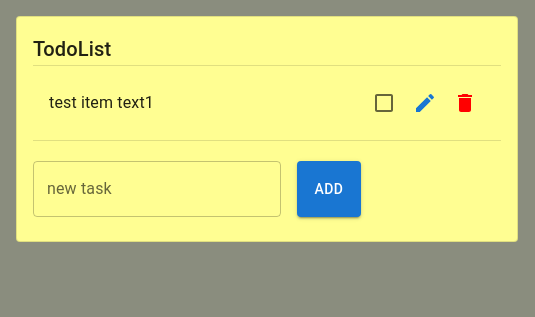
Test: List › Add List item key
This screenshot has width=535, height=317.
Type "test item text2" into the field labelled "new task" at (157, 189), box top-left (33, 161), bottom-right (281, 217)
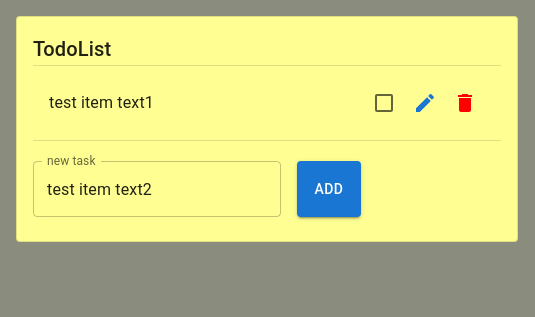
Press Enter in the field labelled "new task", box top-left (33, 161), bottom-right (281, 217)
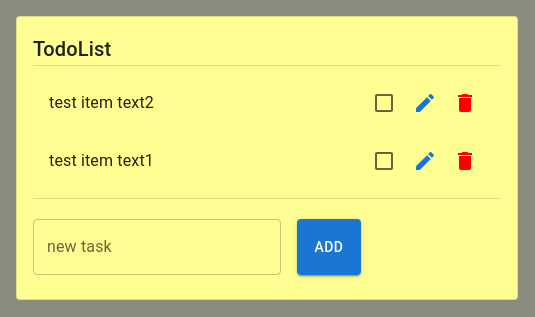
Result: the text "test item text2" is shown at top-left (49, 93), bottom-right (154, 112)
